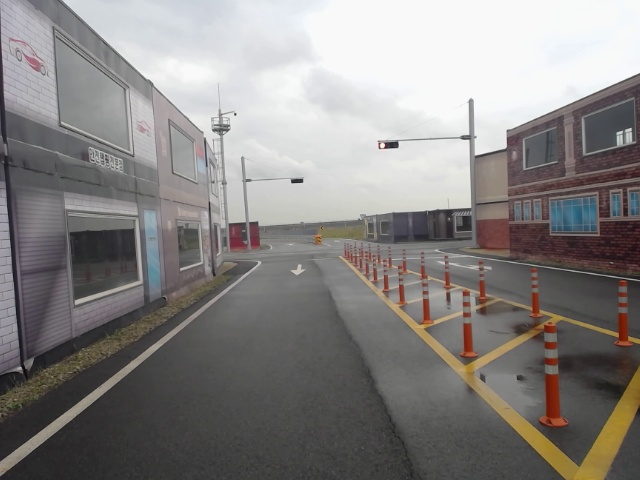red_3: (377, 139, 400, 149)
